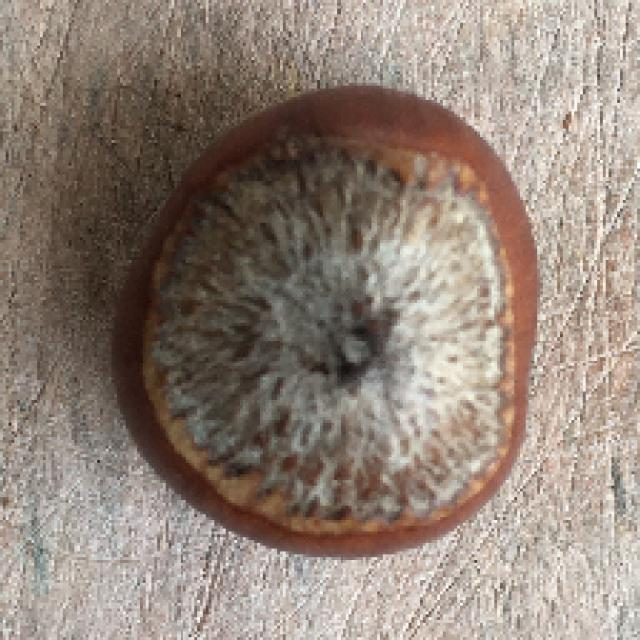damagedHazelnut: (103, 81, 546, 561)
